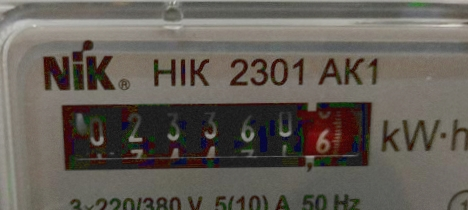0: (84, 114, 106, 147), (275, 107, 293, 138)
2: (122, 110, 146, 144)
3: (160, 110, 182, 142), (199, 108, 219, 139)
6: (235, 111, 256, 143), (311, 125, 332, 154)
screen: (42, 83, 385, 185)
